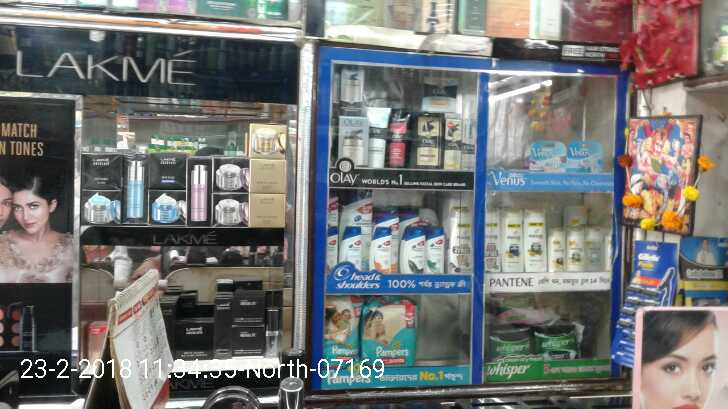gillete: (621, 242, 677, 370)
venus: (529, 140, 568, 175), (568, 140, 599, 175)
